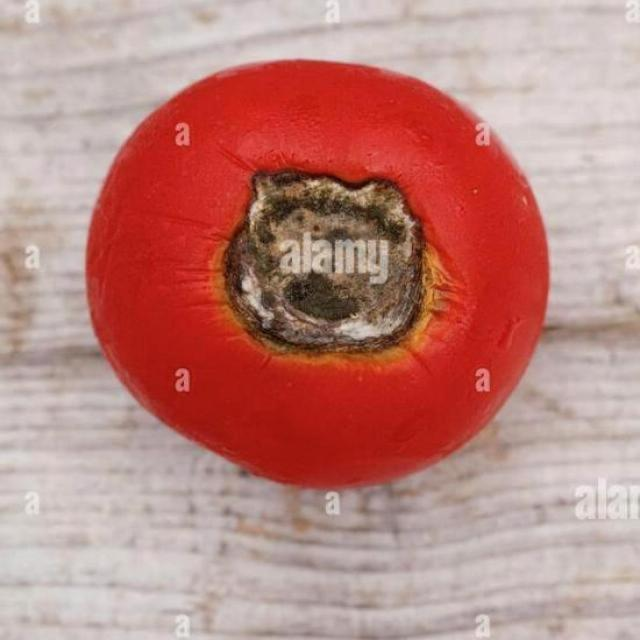Blossom End Rot Fruit: (148, 107, 292, 248)
